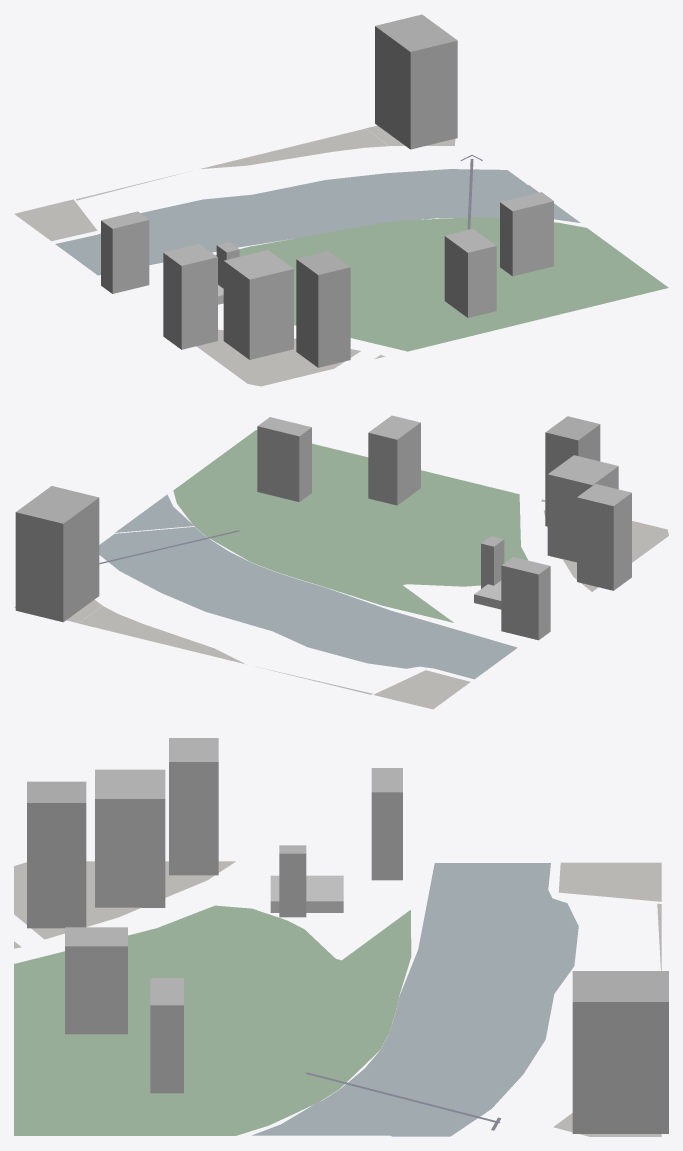
Rendered from 122_77_mid.glb.
3 renders of one model, top to bottom at view 1: azimuth 30°, elevation 25°; view 2: azimuth 150°, elevation 25°; view 3: azimuth 270°, elevation 25°, orthographic. The views are drawn at different scales.
Size of the model in its own units: 518 by 112 by 506.
